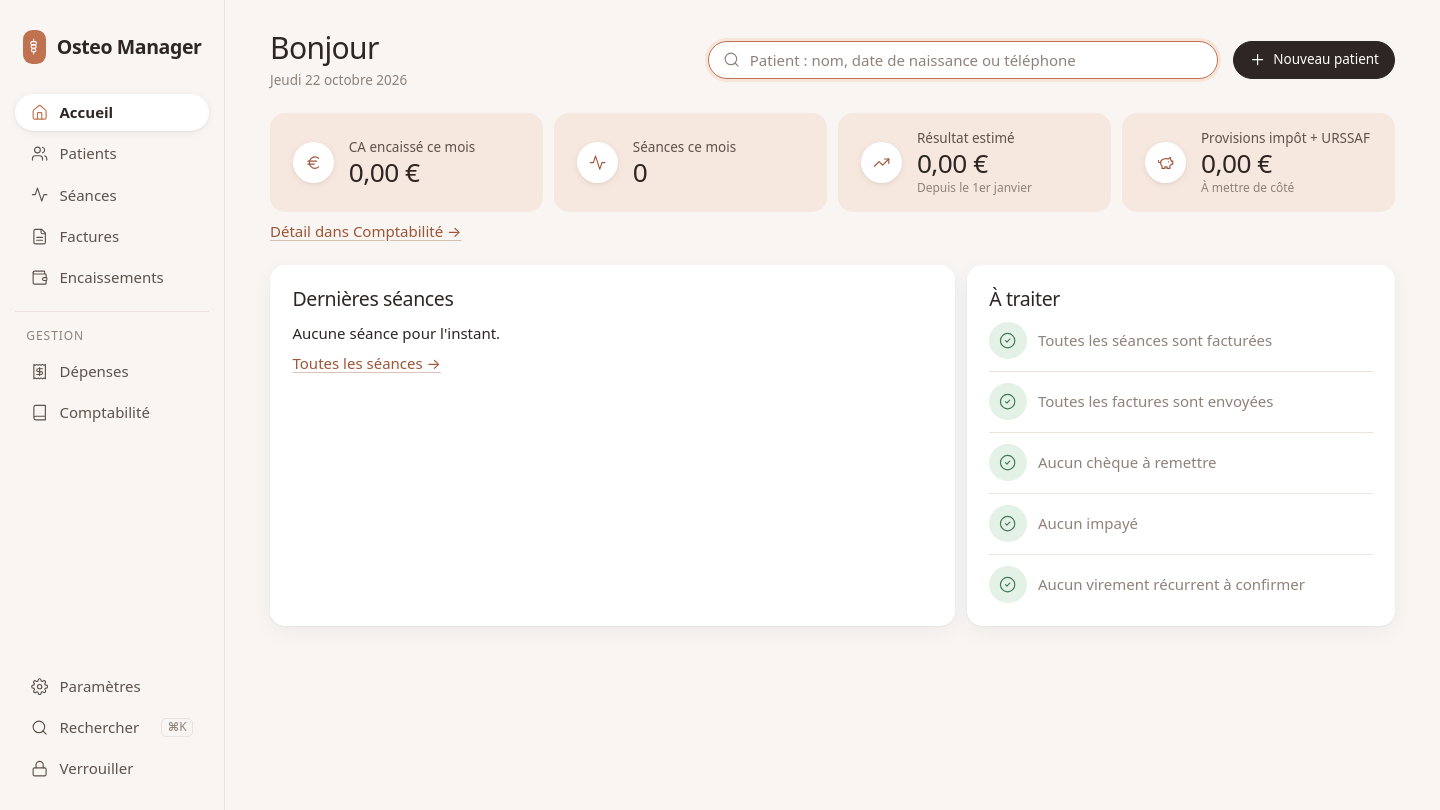
Scenario: les dépenses sont affichées par année
Step 1. Click the button "Dépenses" → click(112, 372), box [15,353,209,390]
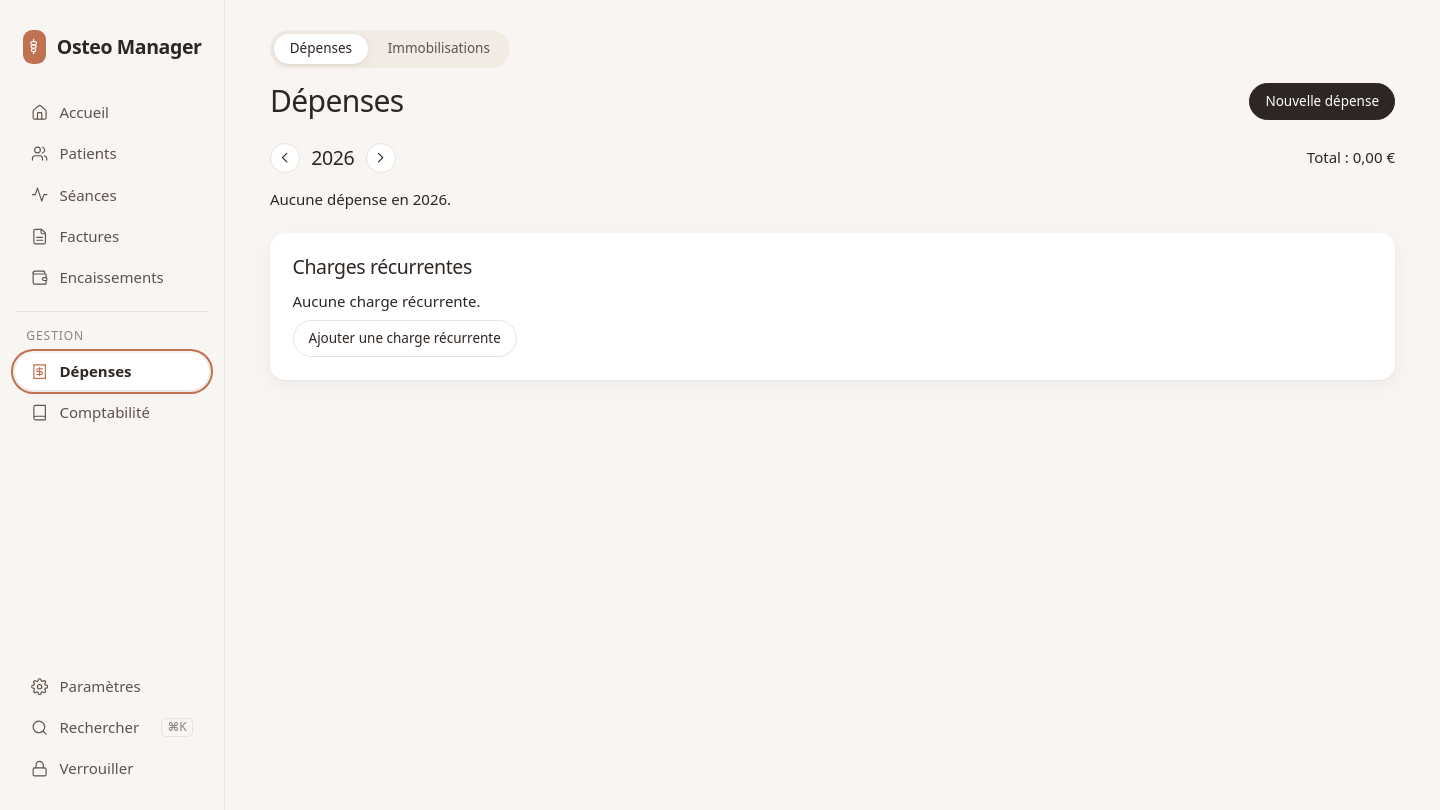
Check: the heading "Dépenses" is shown, box [270,83,404,119]
Step 2. Click the button named "Année précédente" → click(285, 158), box [270,142,300,172]
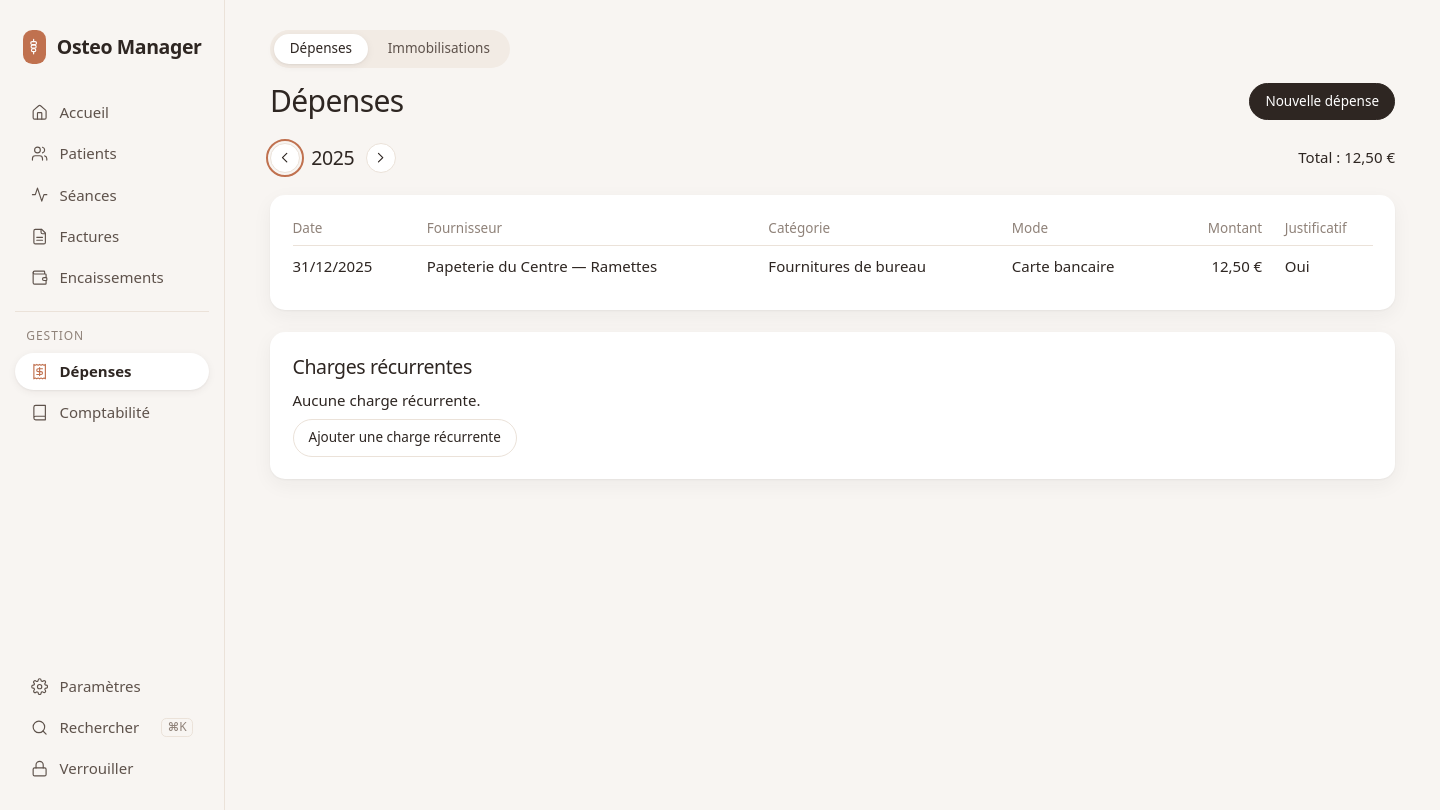
Check: the button "Papeterie du Centre" is shown, box [427,255,568,278]
